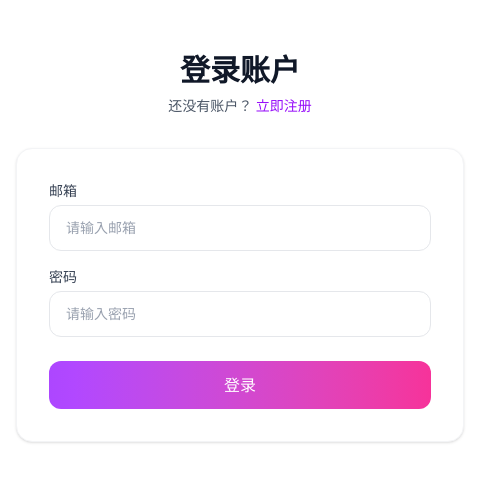
Scenario: Login › should show error message on login failure
In the field labelled "邮箱": point(240, 228) left=49, top=205, right=431, bottom=251, type "test@test.com"
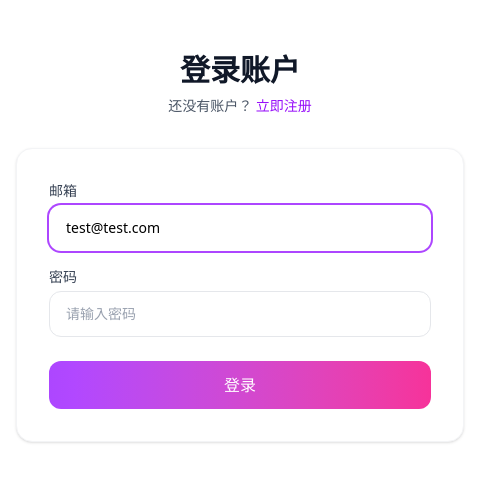
In the password field labelled "密码": point(240, 314) left=49, top=291, right=431, bottom=337, type "wrongpassword"
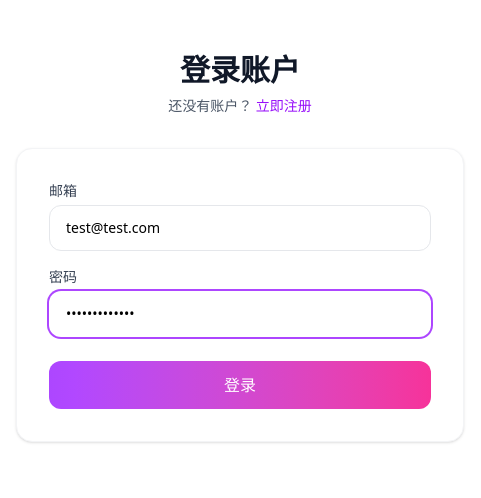
Click the button "登录": point(240, 385) left=49, top=361, right=431, bottom=409
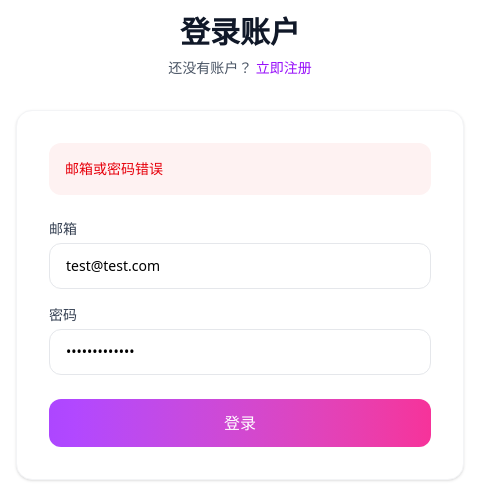
expect the text "邮箱或密码错误" is shown: met, box left=49, top=143, right=431, bottom=195
